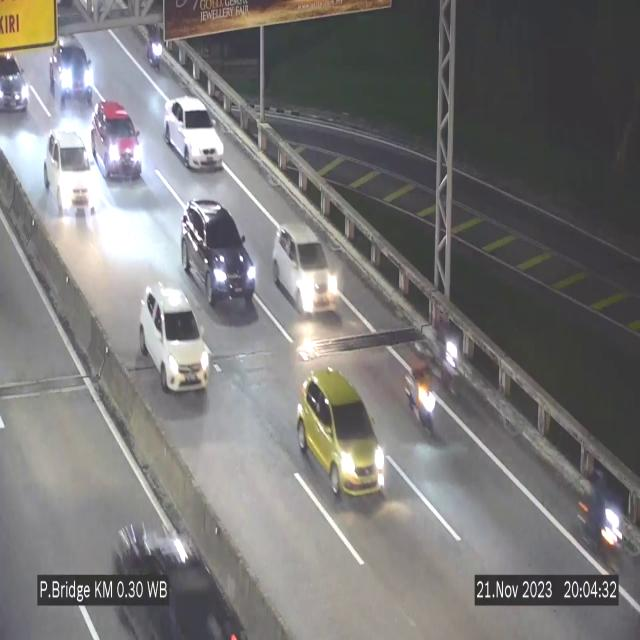Car: (100, 509, 244, 640), (296, 371, 386, 500), (181, 200, 257, 314), (140, 285, 210, 392), (272, 223, 340, 314), (44, 126, 98, 225), (164, 96, 224, 169), (92, 100, 142, 178), (44, 35, 96, 104), (0, 43, 38, 120)
Motorcycle: (578, 461, 626, 568), (404, 336, 440, 448), (432, 309, 463, 407), (140, 17, 168, 79)
